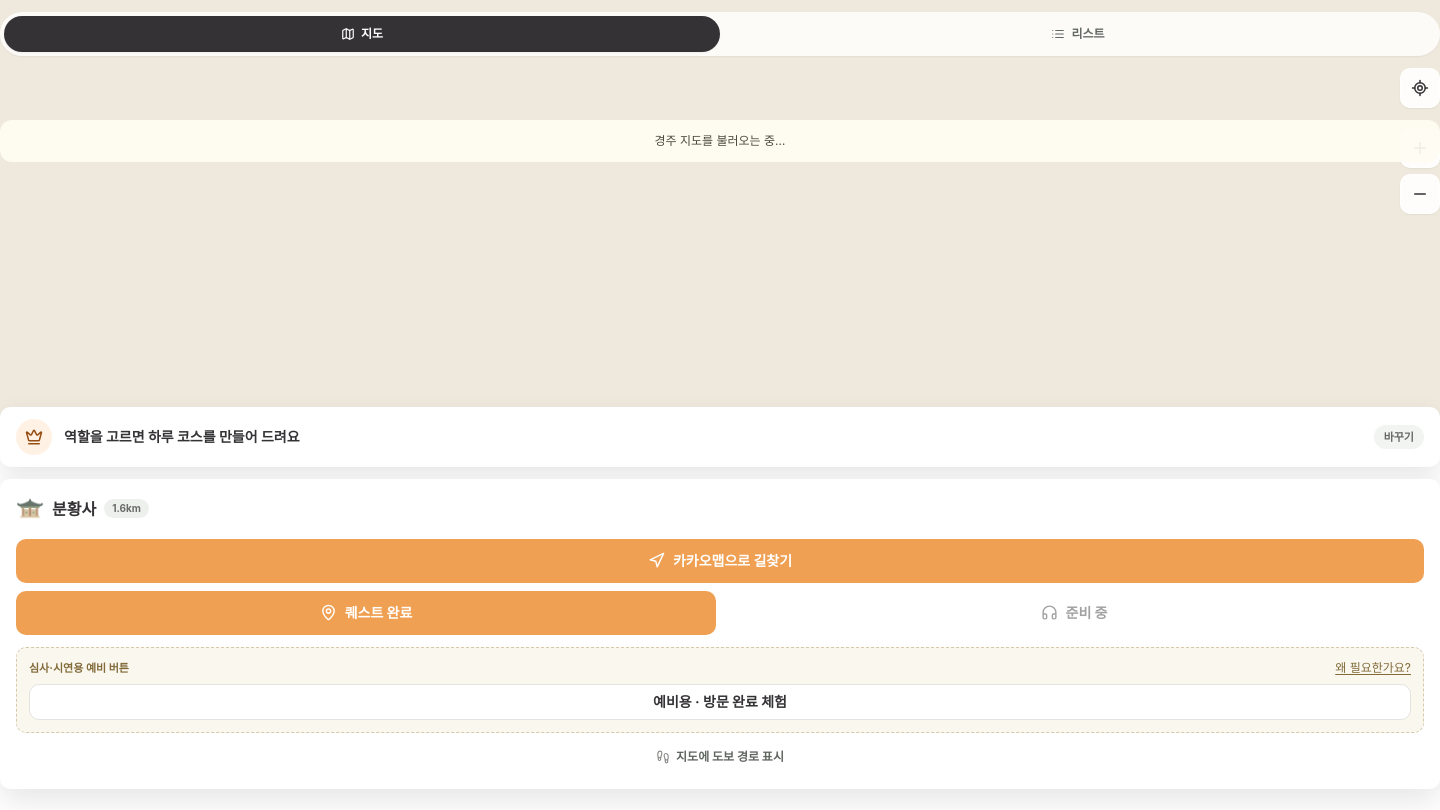
GyeongjuMap2D › passes the saved reward to the celebration for demo=false
Click the button "퀘스트 완료". click: {"x": 366, "y": 613}
box: [16,591,716,635]
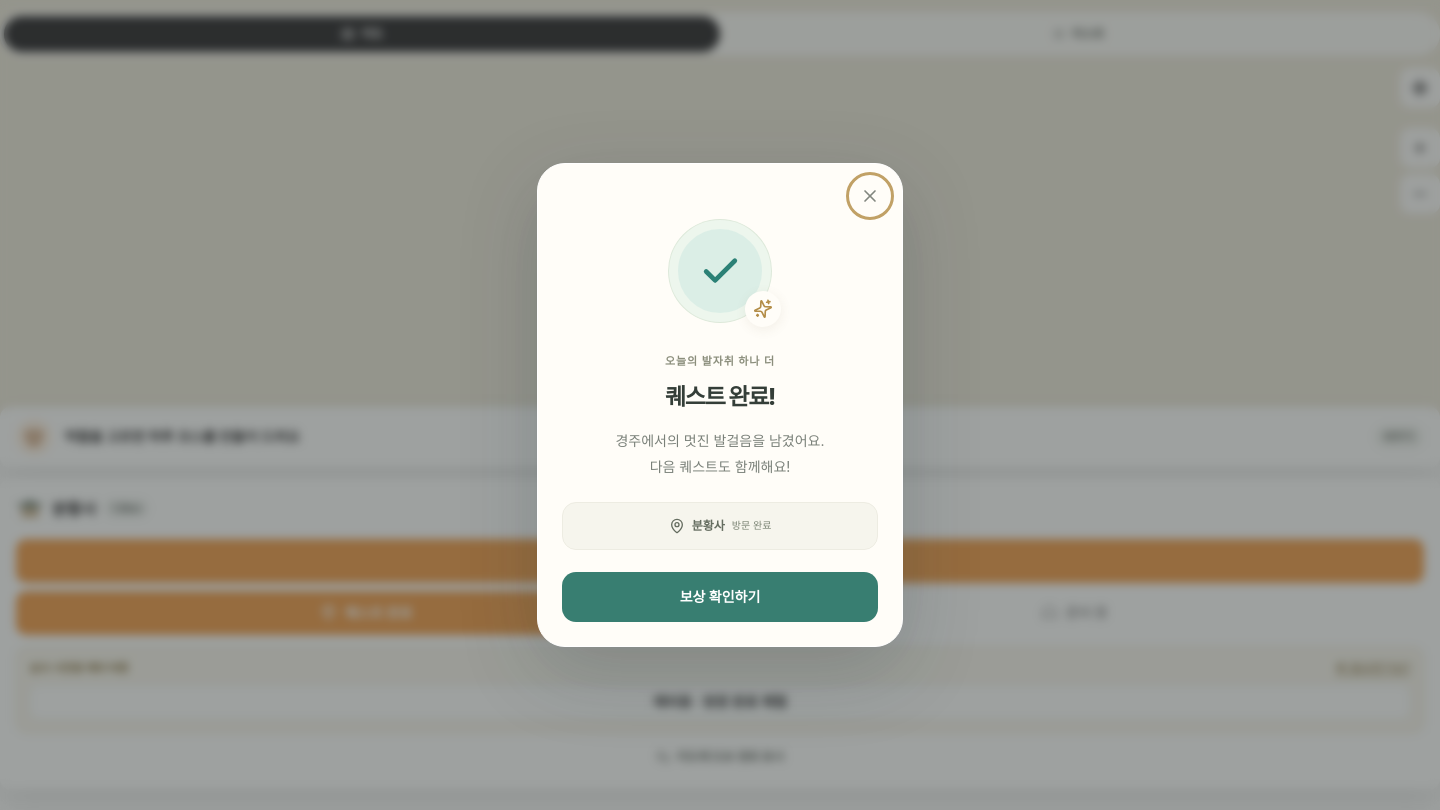
Click the button "보상 확인하기". click: {"x": 720, "y": 597}
box: [562,572,878,622]
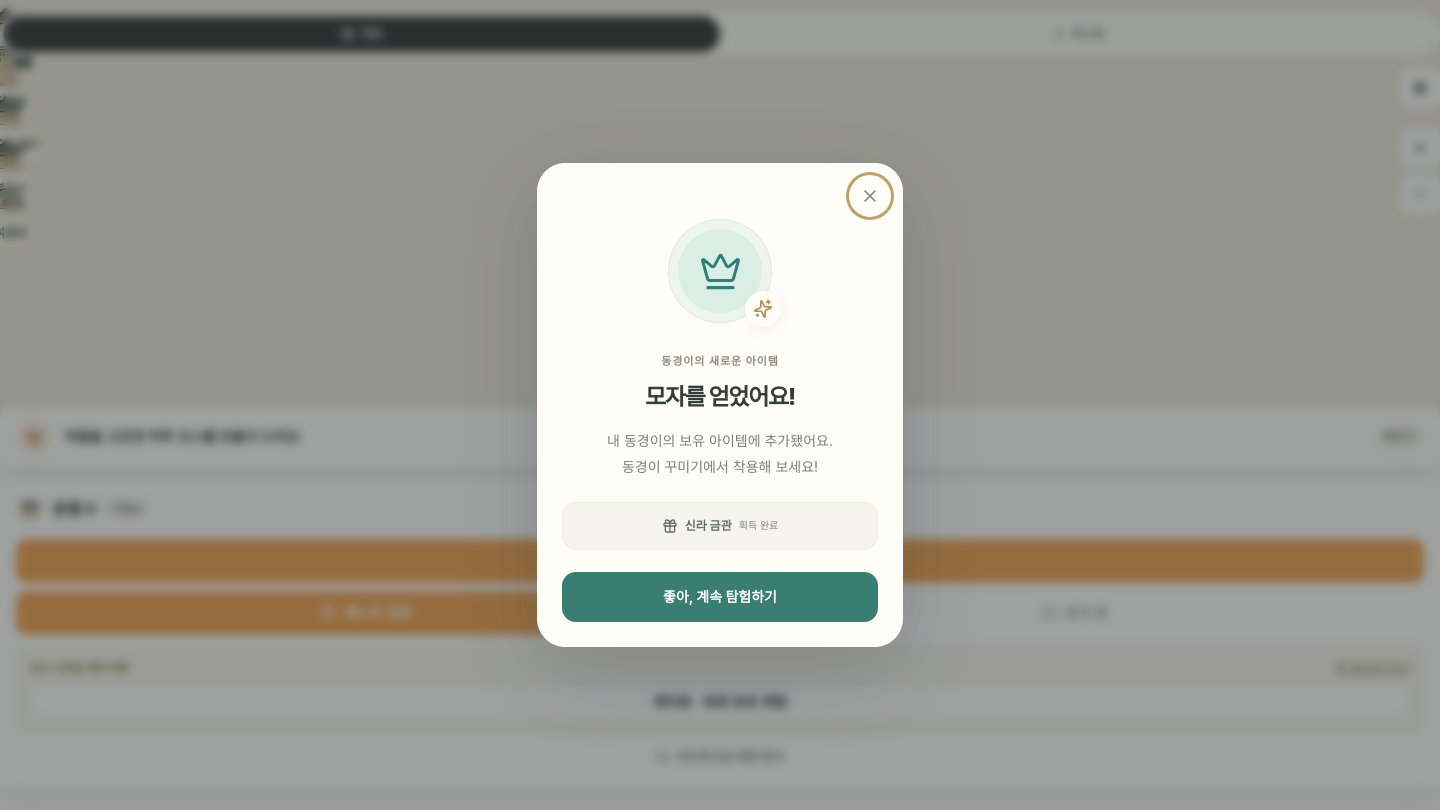
expect the dialog "모자를 얻었어요!" is shown: met, box [537,163,903,647]
expect the text "신라 금관" is shown: met, box [685,517,732,535]
